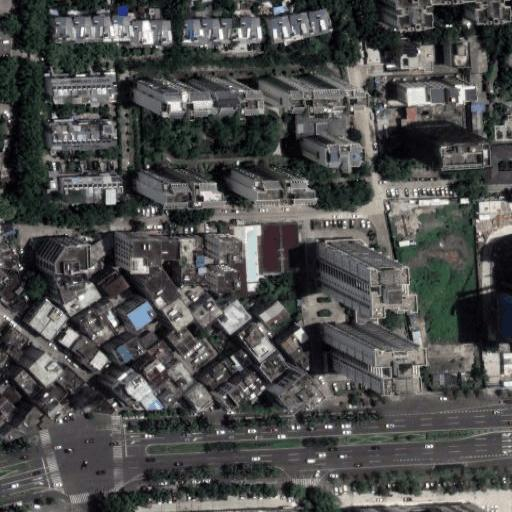building: (151, 77, 253, 106), (337, 327, 390, 381), (326, 256, 380, 307), (278, 373, 328, 414), (276, 79, 358, 104), (270, 8, 330, 42), (78, 302, 122, 348), (256, 225, 298, 271), (51, 78, 117, 107), (54, 16, 130, 41), (183, 19, 262, 43), (50, 122, 117, 150), (247, 169, 312, 196), (159, 173, 223, 200), (2, 407, 51, 442), (61, 177, 122, 205), (28, 300, 69, 341), (56, 275, 100, 313), (411, 133, 466, 163), (71, 338, 110, 376), (140, 272, 178, 311), (170, 229, 200, 274), (216, 299, 252, 335), (319, 132, 361, 162), (50, 239, 87, 273), (28, 352, 63, 387), (107, 372, 141, 406), (118, 296, 152, 328), (124, 229, 155, 264), (169, 363, 200, 396), (483, 145, 512, 180), (396, 43, 433, 70), (97, 269, 129, 300), (130, 22, 172, 45), (192, 293, 223, 324), (113, 336, 145, 366), (170, 328, 200, 358), (259, 353, 290, 382), (160, 300, 189, 331), (492, 294, 512, 338), (259, 297, 288, 325), (13, 370, 41, 398), (58, 368, 86, 395), (187, 385, 214, 413), (142, 361, 169, 389), (417, 85, 458, 103), (245, 225, 256, 292), (383, 0, 416, 21), (239, 324, 265, 350), (280, 337, 305, 364), (0, 270, 20, 303), (224, 352, 249, 378), (0, 381, 25, 405), (250, 338, 275, 362), (151, 341, 175, 365), (3, 328, 28, 351), (210, 265, 235, 288), (460, 0, 501, 14), (177, 283, 204, 304), (0, 393, 20, 421), (157, 386, 181, 409), (236, 370, 259, 394), (213, 237, 238, 259), (393, 85, 417, 107), (304, 110, 335, 127), (450, 42, 471, 67), (208, 368, 230, 391), (283, 104, 304, 127), (129, 392, 153, 411), (471, 45, 486, 75), (493, 116, 512, 139), (411, 332, 425, 361), (59, 330, 79, 350), (230, 378, 249, 399), (471, 75, 485, 103), (217, 363, 236, 383), (220, 383, 239, 402), (47, 403, 66, 421), (479, 202, 512, 212), (203, 376, 220, 395), (432, 374, 460, 385), (41, 396, 59, 413), (155, 229, 170, 249), (52, 381, 69, 398), (289, 330, 306, 347), (140, 332, 158, 348), (13, 297, 29, 313), (6, 345, 23, 360), (471, 111, 482, 133), (365, 47, 381, 62), (0, 223, 16, 237), (216, 391, 230, 406), (504, 354, 512, 375), (393, 107, 403, 121), (233, 225, 245, 236), (77, 116, 99, 122), (150, 11, 162, 22), (419, 200, 448, 204), (471, 103, 485, 111), (53, 177, 61, 190), (117, 9, 130, 16), (398, 240, 411, 247), (479, 212, 491, 218), (274, 11, 286, 17), (386, 50, 396, 57), (386, 59, 396, 66), (97, 11, 111, 16), (50, 171, 61, 177), (460, 374, 466, 385), (54, 10, 64, 16), (71, 10, 79, 16), (460, 198, 469, 203), (504, 382, 512, 387), (138, 6, 144, 12), (238, 220, 245, 225), (261, 0, 272, 3), (389, 118, 393, 126), (297, 300, 301, 306)
